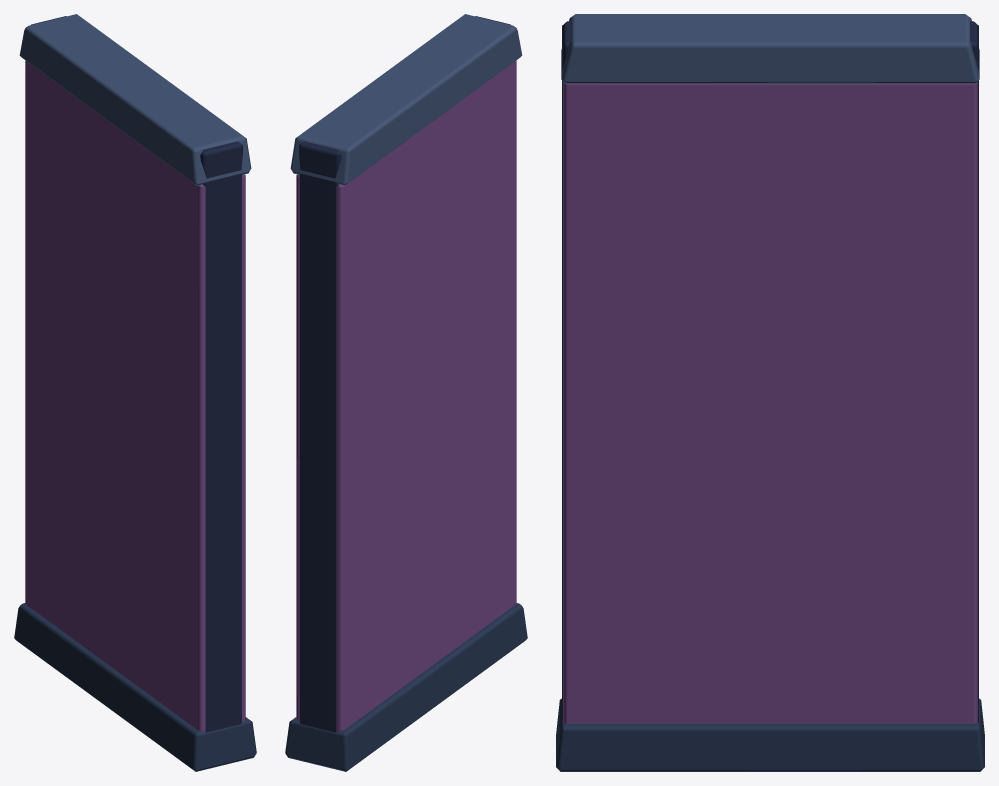
File: wall_violet_34_420_220.glb
The picture shows the model from 3 angles, left to right: view 1: azimuth 30°, elevation 25°; view 2: azimuth 150°, elevation 25°; view 3: azimuth 270°, elevation 25°; orthographic projection. The views are drawn at different scales.
Parts seen in each view (by area): view 1: wall_violet_34_420_220; view 2: wall_violet_34_420_220; view 3: wall_violet_34_420_220.
Boxes of the visible parts, x1,y1,x2,y2 form: wall_violet_34_420_220: (14,14,256,771); wall_violet_34_420_220: (285,14,527,771); wall_violet_34_420_220: (556,14,984,771).
Bounding box in the file's own units: 0.4582 × 4.2 × 2.24.
